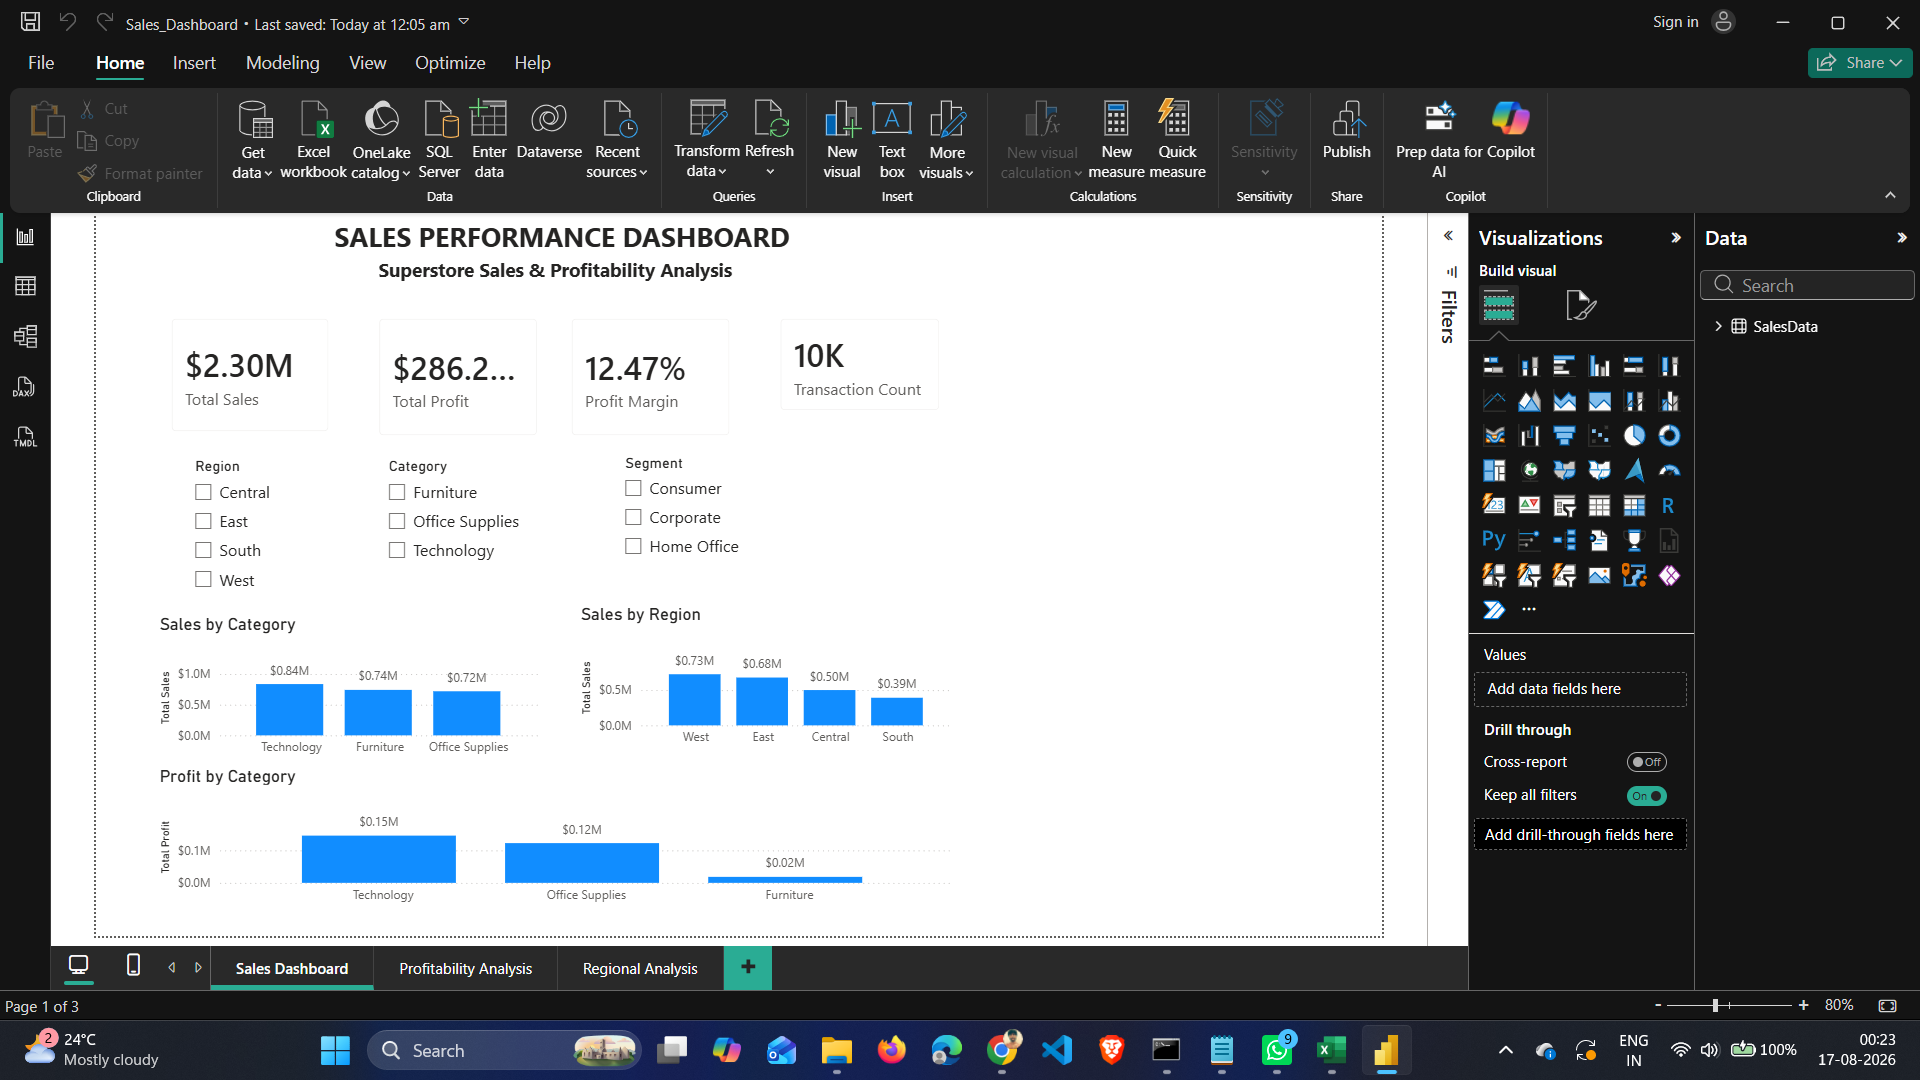

The dashboard page shown, as its layout file describes it:
{"tool":"powerbi","page":{"name":"Sales Dashboard","canvas":[1280,720],"ordinal":1},"visuals":[{"type":"textbox","box":[9.8,0,907.3,57.5],"z":0},{"type":"textbox","box":[234.8,39.1,443.9,39.1],"z":1000},{"type":"cardVisual","title":"Total Sales","fields":{"Data":["SalesData.Total Sales"]},"box":[58.5,88.3,190.8,146.7],"z":2000},{"type":"cardVisual","fields":{"Data":["SalesData.Total Profit"]},"box":[265,88.3,191,150],"z":3000},{"type":"cardVisual","fields":{"Data":["SalesData.Profit Margin"]},"box":[456.5,88.3,191,150],"z":4000},{"type":"cardVisual","fields":{"Data":["SalesData.Transaction Count"]},"box":[664.3,88.3,192.8,125.6],"z":5000},{"type":"clusteredColumnChart","title":"Sales by Category","fields":{"Category":["SalesData.Category"],"Y":["SalesData.Total Sales"]},"box":[58.5,399.3,388.1,150.5],"z":6000},{"type":"clusteredColumnChart","title":"Sales by Region","fields":{"Category":["SalesData.Region"],"Y":["SalesData.Total Sales"]},"box":[477.7,389.4,379.4,150.5],"z":7000},{"type":"slicer","title":"Profit by Category","fields":{"Values":["SalesData.Region"]},"box":[85.8,238.8,193,150],"z":8000},{"type":"slicer","fields":{"Values":["SalesData.Category"]},"box":[278.6,238.8,193,150],"z":9000},{"type":"slicer","fields":{"Values":["SalesData.Segment"]},"box":[513.8,235.1,151,150],"z":10000},{"type":"clusteredColumnChart","title":"Profit by Category","fields":{"Category":["SalesData.Category"],"Y":["SalesData.Total Profit"]},"box":[58.5,549.8,798.6,146.8],"z":11000}]}

Visuals, with their boxes on the page's 1280x720 design canvas (x1, y1, x2, y2). These are canvas units, not pixel positions in the 1920x1080 screenshot, which may show the page scaled, cropped or inside an application window:
textbox: [left=10, top=0, right=917, bottom=58]
textbox: [left=235, top=39, right=679, bottom=78]
"Total Sales" cardVisual: [left=58, top=88, right=249, bottom=235]
cardVisual - SalesData.Total Profit: [left=265, top=88, right=456, bottom=238]
cardVisual - SalesData.Profit Margin: [left=456, top=88, right=648, bottom=238]
cardVisual - SalesData.Transaction Count: [left=664, top=88, right=857, bottom=214]
"Sales by Category" clusteredColumnChart: [left=58, top=399, right=447, bottom=550]
"Sales by Region" clusteredColumnChart: [left=478, top=389, right=857, bottom=540]
"Profit by Category" slicer: [left=86, top=239, right=279, bottom=389]
slicer - SalesData.Category: [left=279, top=239, right=472, bottom=389]
slicer - SalesData.Segment: [left=514, top=235, right=665, bottom=385]
"Profit by Category" clusteredColumnChart: [left=58, top=550, right=857, bottom=697]
